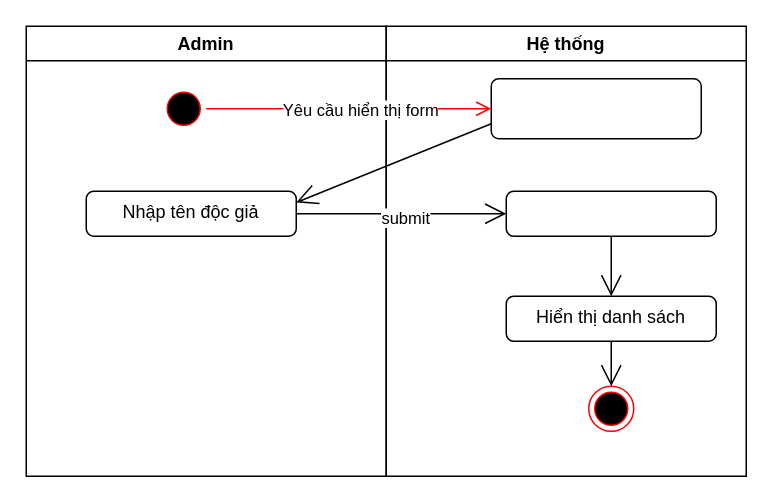
Some shapes in this 773 by 503 pixel diagram are drawn without their labels. The shapes that lost their labels are listed below. From the top down, each one's centre as x and y in pixels, then its label:
At point 595,108: "Hiển thị form tìm kiếm".
At point 610,213: "truy vấn csdl".
